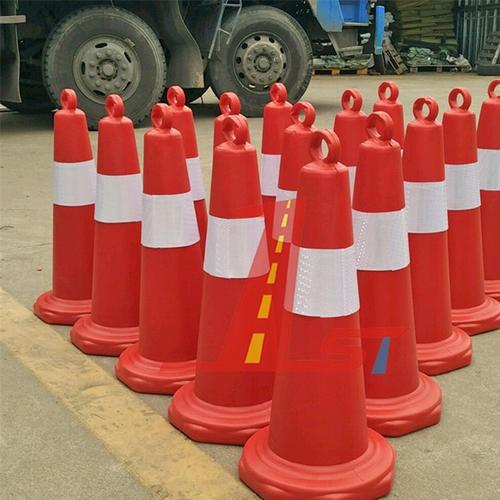cone_barrel: (259, 142, 380, 488), (187, 109, 285, 435), (348, 124, 429, 431), (129, 106, 205, 388), (85, 93, 146, 353), (398, 92, 456, 360), (36, 92, 99, 326), (440, 78, 486, 330)
